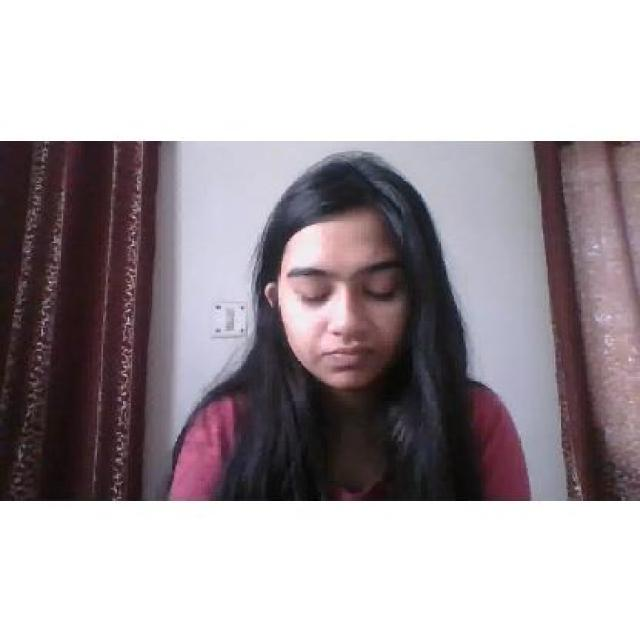inattentif: (265, 162, 409, 388)
